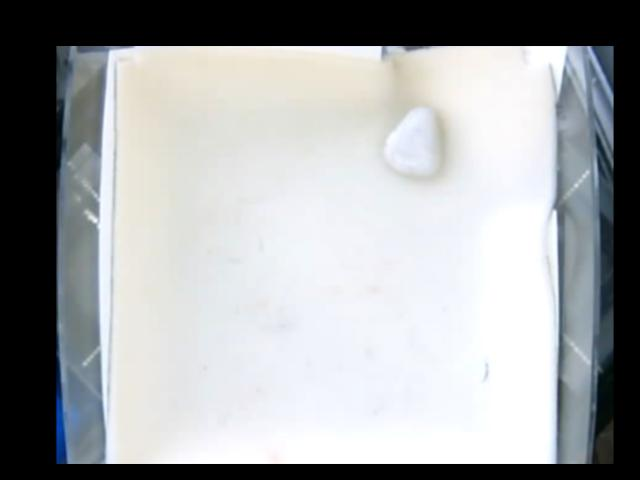Pebble: (383, 107, 439, 179)
